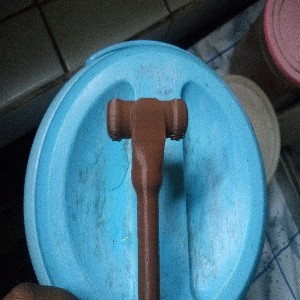palu: (107, 96, 189, 300)
